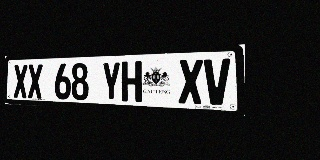6: (55, 63, 71, 100)
8: (71, 63, 89, 100)
H: (121, 61, 142, 102)
V: (204, 58, 230, 105)
X: (179, 59, 203, 104), (28, 64, 42, 99), (14, 64, 27, 98)
Y: (102, 62, 121, 101)
